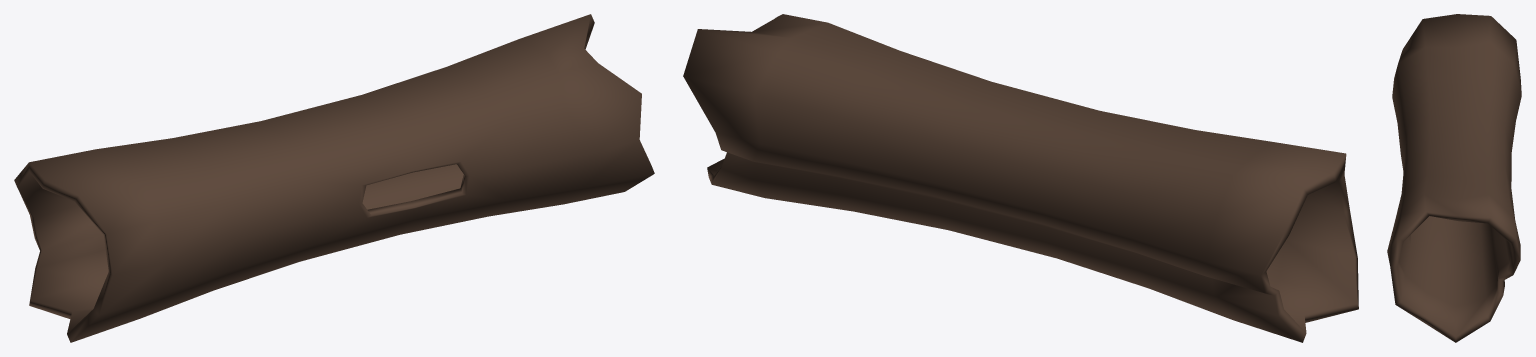
File: treeLog-01_col.fbx
3 views of the same model, side by side, from view 1: azimuth 30°, elevation 25°; view 2: azimuth 150°, elevation 25°; view 3: azimuth 270°, elevation 25° (orthographic). The views are drawn at different scales.
Parts seen in each view (by area): view 1: treeLog-01.col; view 2: treeLog-01.col; view 3: treeLog-01.col.
Boxes of the visible parts, x1,y1,x2,y2 form: treeLog-01.col: (14, 14, 654, 342); treeLog-01.col: (683, 14, 1358, 342); treeLog-01.col: (1387, 14, 1521, 342).
Size of the model in its own units: 0.4975 by 0.1303 by 0.1296.
Materials: 1 (1 with a texture image).
